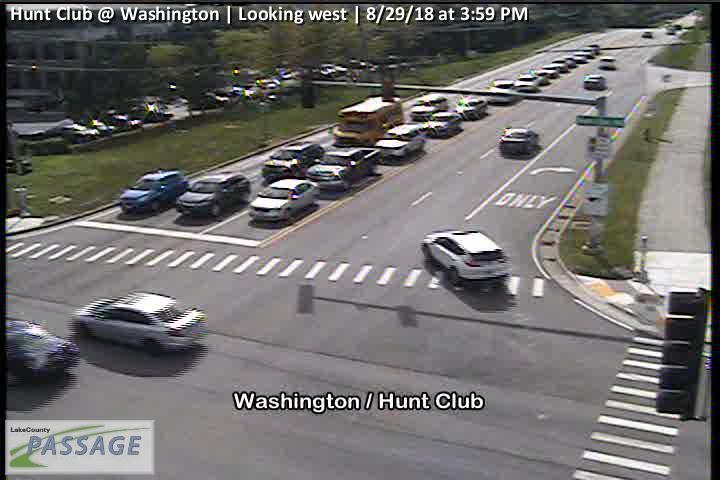Bus: (330, 95, 403, 148)
SUV: (422, 228, 509, 287), (175, 172, 247, 221), (119, 169, 190, 216), (264, 142, 324, 181), (373, 123, 423, 162), (499, 126, 538, 160), (409, 95, 448, 120), (427, 111, 461, 137), (485, 79, 519, 105), (456, 95, 488, 120), (598, 55, 616, 70)
Sedan: (71, 290, 207, 354), (6, 317, 80, 382), (247, 177, 320, 223), (515, 72, 539, 91), (583, 73, 606, 90)
Truck: (308, 147, 382, 194)
